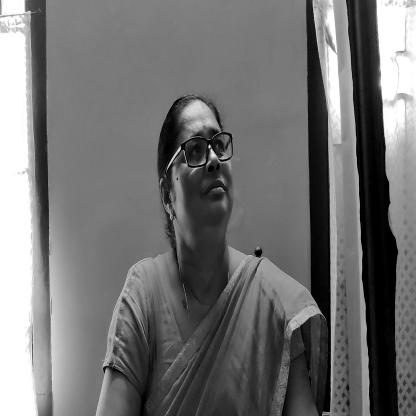Distracted: (152, 101, 249, 239)
